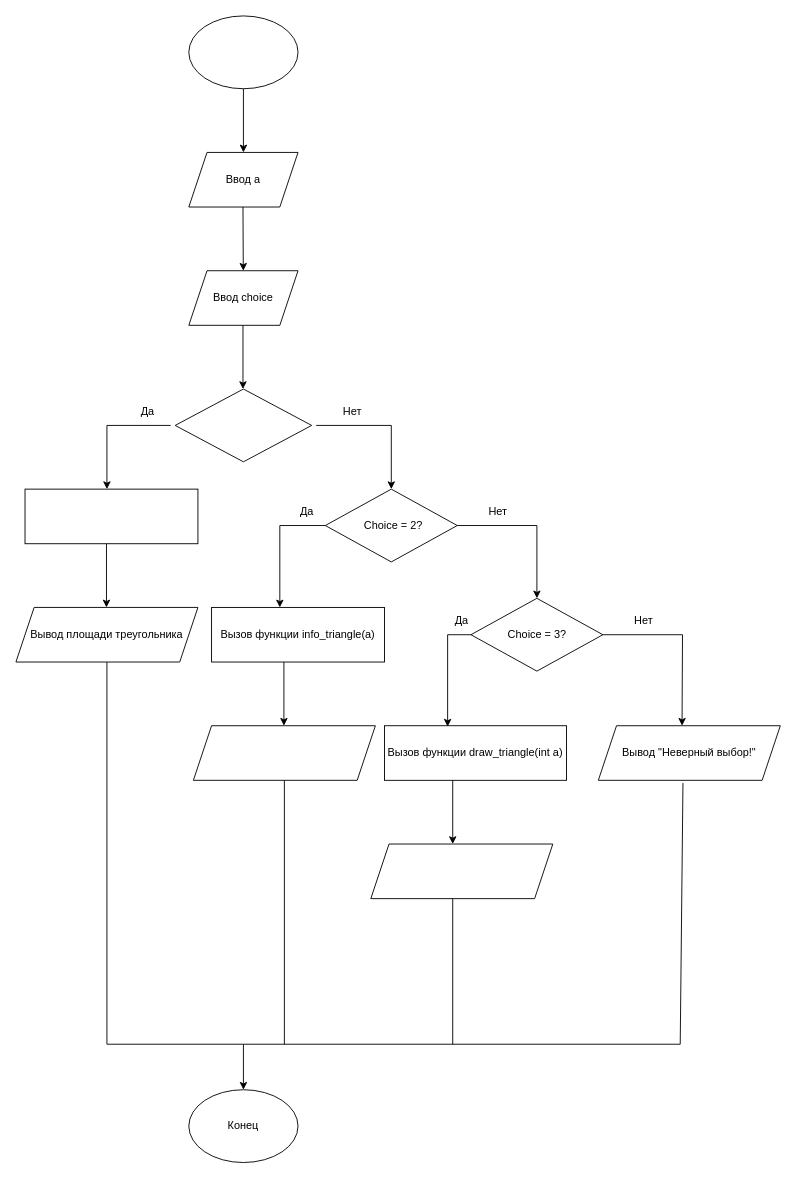
Image size: 796x1178. Some labels were removed from this diagram. The box of each missing label's shape, as (x1, y1, x2, y2) in pixels:
Choice = 1?: (174, 388, 312, 462)
Вывод определения фигуры: (192, 725, 375, 780)
Вывод рисунка фигуры: (370, 843, 553, 899)
Вызов функции area_triangle(a): (24, 488, 198, 544)
Начало: (188, 15, 298, 89)
